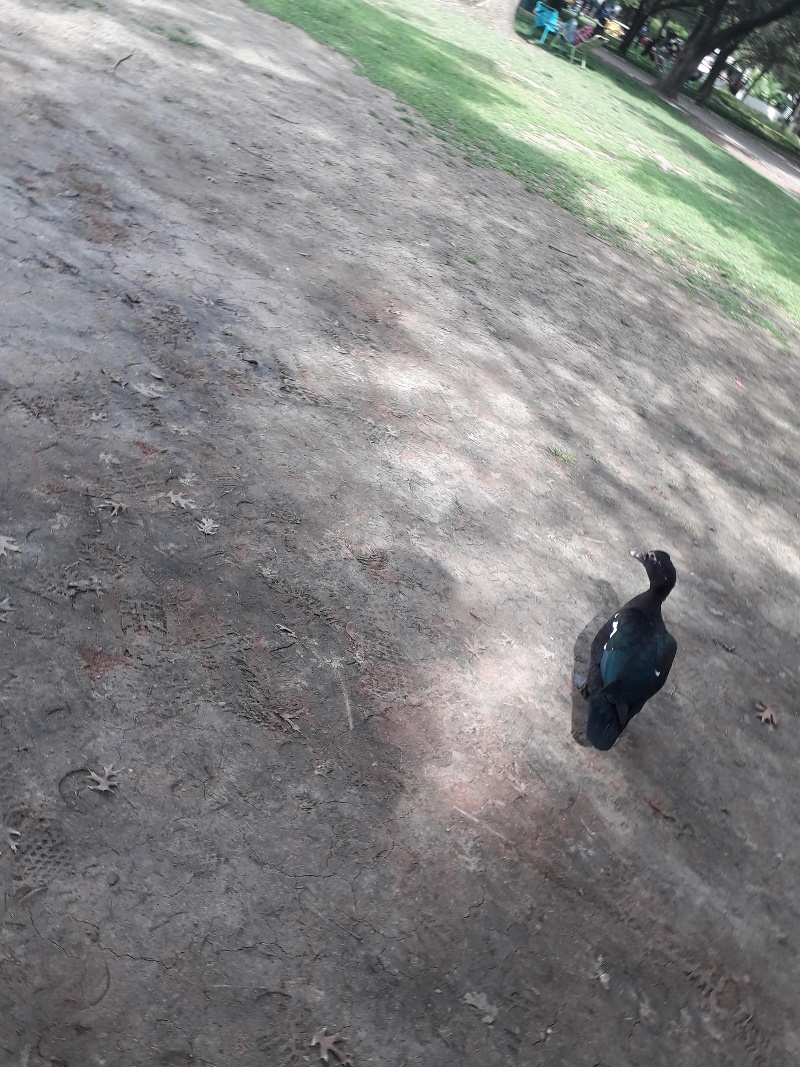pato: (584, 546, 682, 759)
